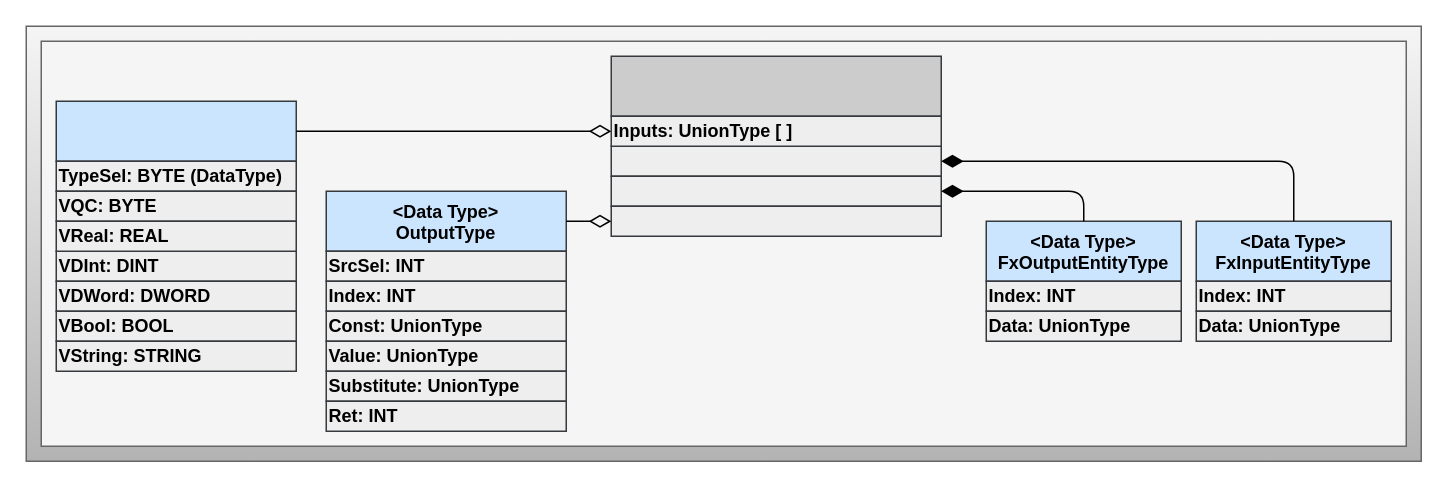
The diagram is 1448 pixels wide and 488 high, and some of its shapes have lost their labels. The shapes that lost their labels are listed below. From the top down, each one's box as (x1, y1, x2, y2) in pixels, then its label:
(610, 55, 941, 116): <Component> OpcUaFxManager
(55, 100, 296, 161): <Data Type> UnionType
(610, 145, 941, 176): FxInputs: FxInputEntityType[]
(610, 175, 941, 206): FxOutputs: FxOutputEntityType[]
(610, 205, 941, 236): Outputs: OutputType [ ]
